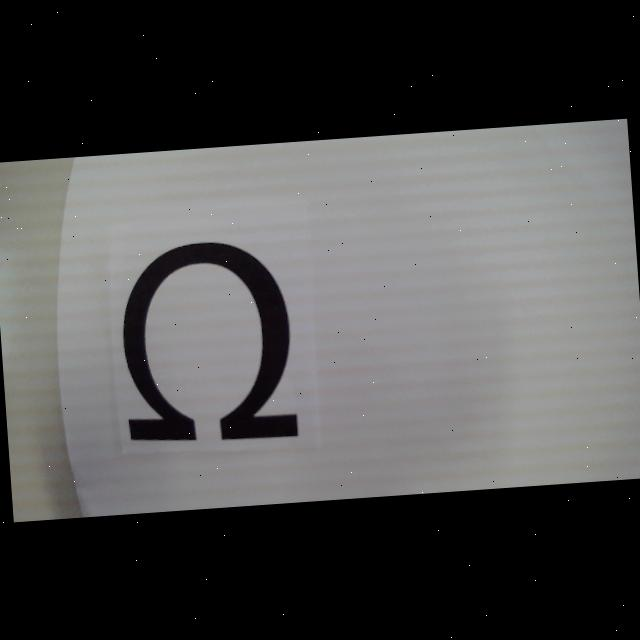OMEGA: (116, 236, 299, 448)
